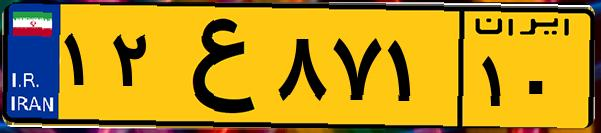0: (525, 38, 570, 115)
1: (385, 28, 445, 110), (57, 26, 110, 100), (475, 38, 525, 113)
2: (110, 28, 158, 98)
7: (330, 28, 385, 110)
8: (270, 28, 330, 110)
ع: (158, 12, 270, 120)
